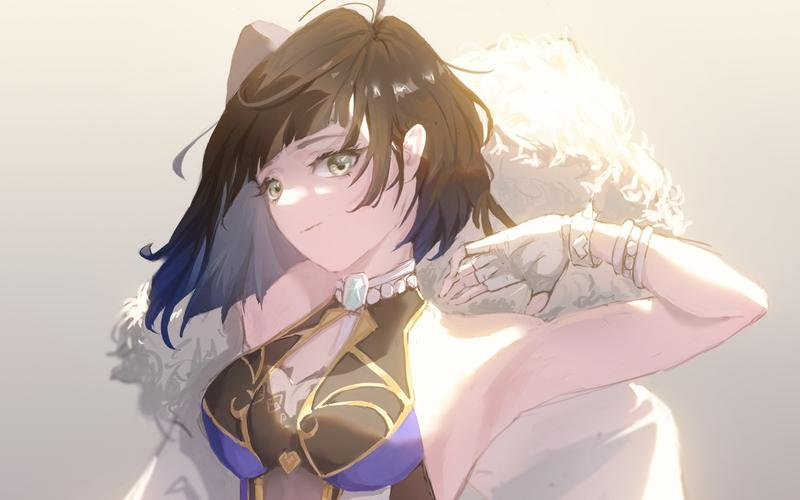夜兰: (140, 9, 776, 500)
